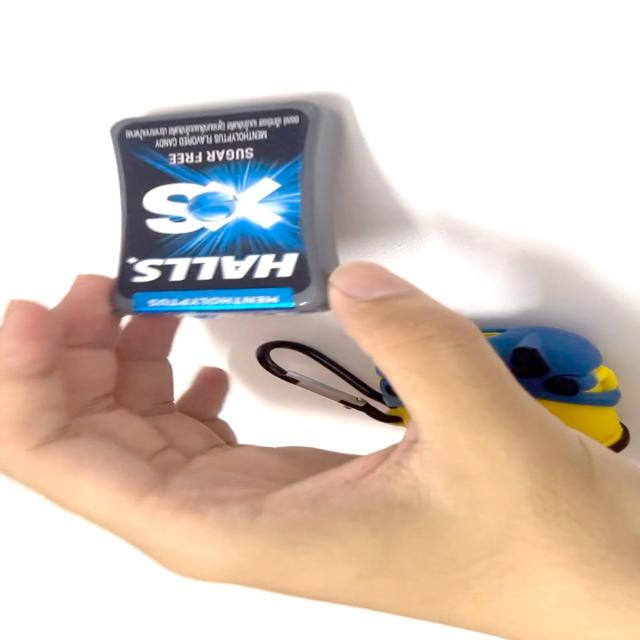airpod minion: (246, 326, 640, 458)
mint hall: (90, 89, 360, 322)
